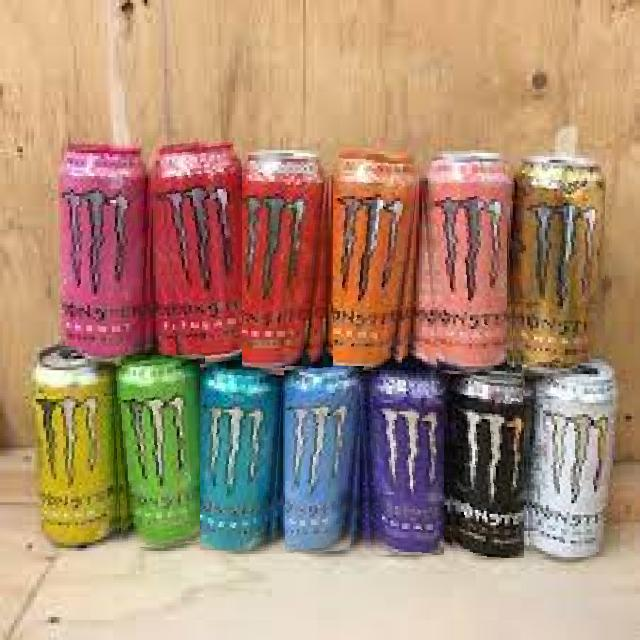Cans: (503, 152, 605, 373), (58, 138, 156, 364), (242, 144, 332, 368), (419, 147, 507, 376), (333, 139, 420, 370), (156, 141, 242, 366), (522, 362, 620, 557), (111, 356, 206, 550), (32, 346, 121, 552), (358, 372, 444, 555), (200, 364, 284, 550), (442, 370, 524, 558), (285, 366, 364, 555)
